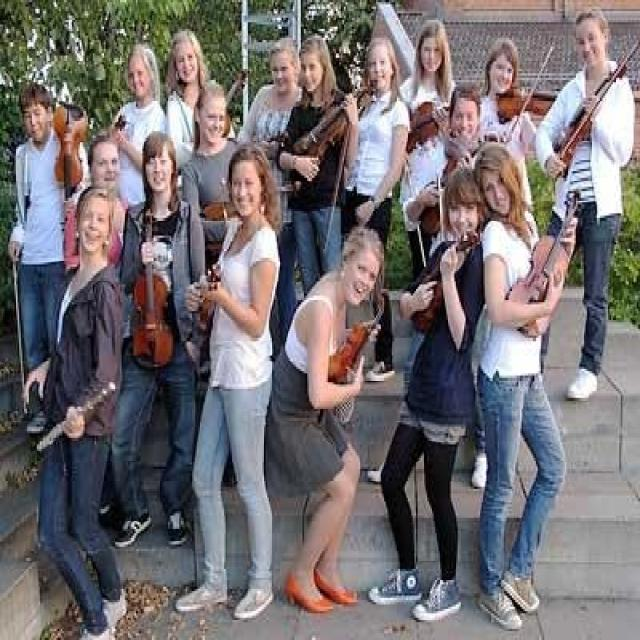violin: (502, 193, 584, 333), (556, 55, 635, 174), (291, 80, 375, 180), (131, 209, 177, 370), (412, 234, 481, 328), (326, 299, 384, 390), (49, 101, 83, 206), (404, 98, 457, 150), (497, 87, 560, 121)
